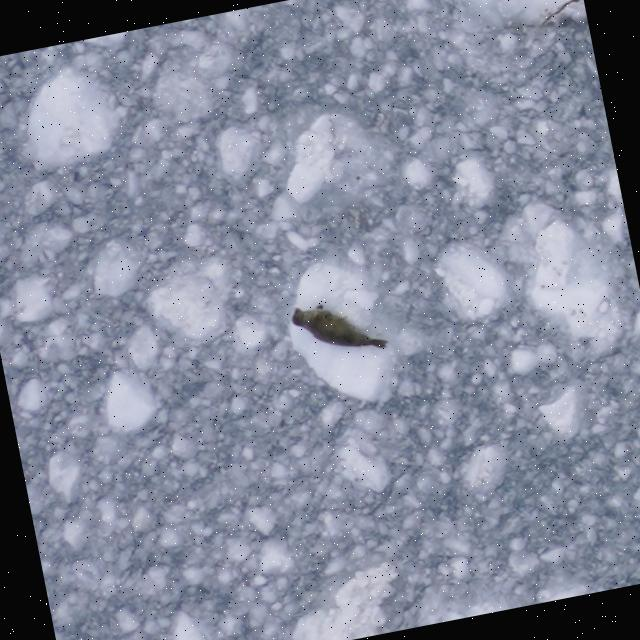seal: (286, 287, 398, 370)
